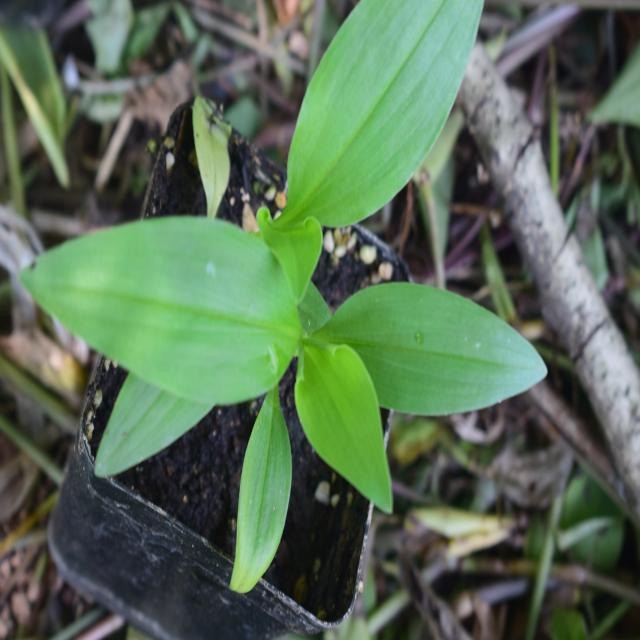Common Dayflower: (18, 190, 542, 526)
